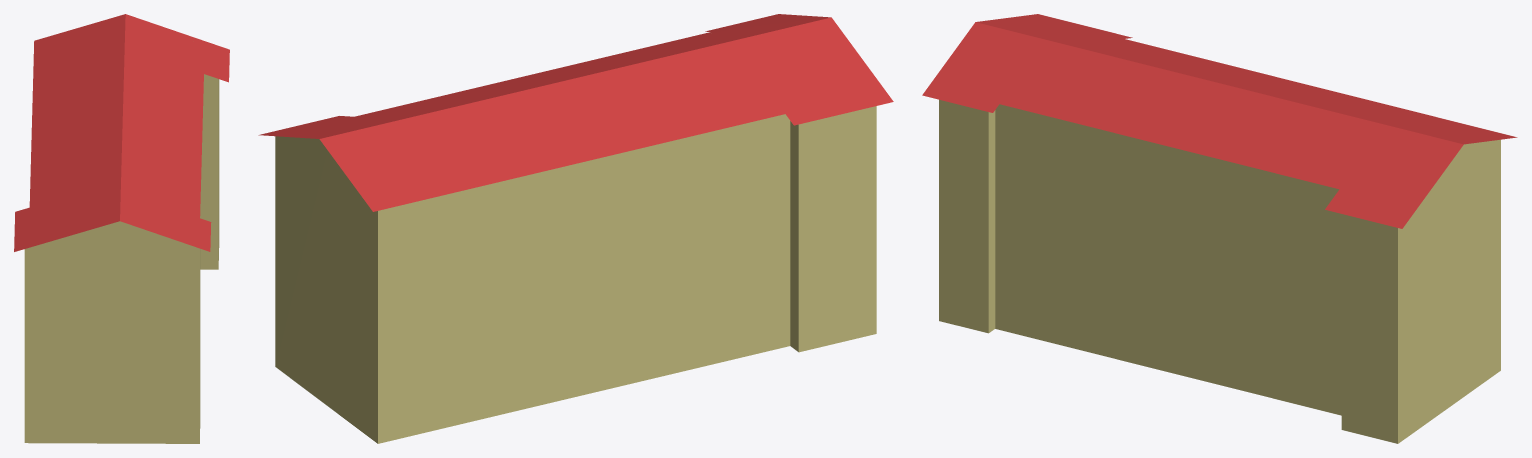
The picture shows the model from 3 angles, left to right: view 1: azimuth 30°, elevation 25°; view 2: azimuth 150°, elevation 25°; view 3: azimuth 270°, elevation 25°; orthographic projection. The views are drawn at different scales.
Visible parts, largest first — view 1: group_5, group_3, group_4; view 2: group_5, group_3, group_4; view 3: group_5, group_3, group_4.
Boxes of the visible parts, x1,y1,x2,y2 form: group_5: [24, 74, 219, 443]; group_3: [14, 14, 229, 251]; group_4: [91, 14, 229, 232]; group_5: [275, 106, 876, 443]; group_3: [276, 14, 893, 211]; group_4: [258, 17, 838, 147]; group_5: [939, 99, 1500, 443]; group_3: [922, 14, 1517, 228]; group_4: [965, 22, 1463, 228].
Size of the model in its own units: 30.55 by 36.48 by 17.75.
